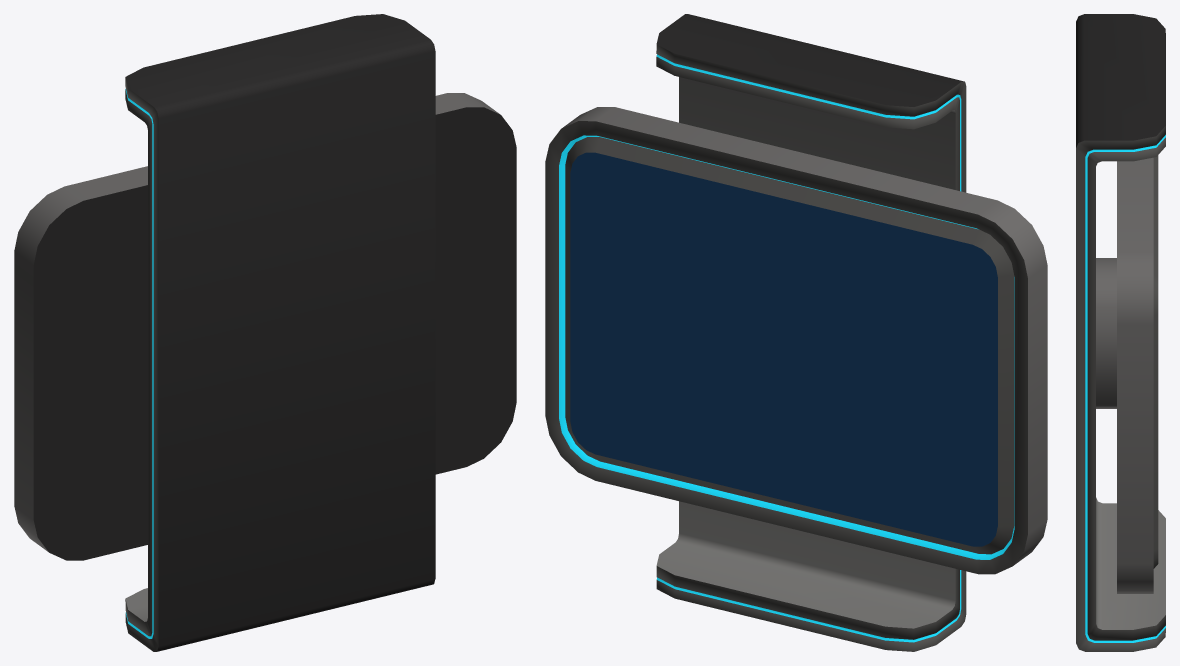
The model's file is board.glb.
The picture shows the model from 3 angles, left to right: view 1: azimuth 30°, elevation 25°; view 2: azimuth 150°, elevation 25°; view 3: azimuth 270°, elevation 25°; orthographic projection. The views are drawn at different scales.
Parts seen in each view (by area): view 1: new_board_base, new_board; view 2: new_board, new_board_base; view 3: new_board_base, new_board.
Part boxes in pixels (left/top/right/bottom): new_board_base: left=125, top=14, right=435, bottom=651; new_board: left=14, top=93, right=516, bottom=560; new_board: left=545, top=107, right=1047, bottom=574; new_board_base: left=656, top=14, right=966, bottom=651; new_board_base: left=1076, top=14, right=1165, bottom=651; new_board: left=1096, top=155, right=1158, bottom=593.
Size of the model in its own units: 4.8 by 5.18 by 0.8258.
Materials: 4 (4 with a texture image).
